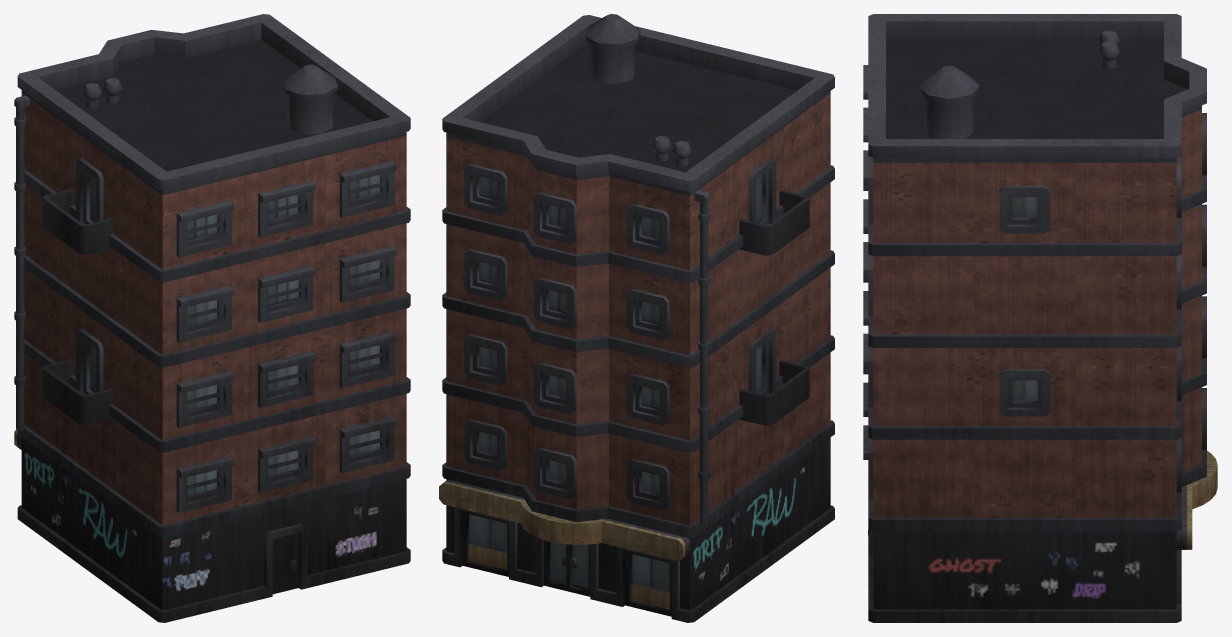
The model's file is building-l-brown-scuffed.glb.
The picture shows the model from 3 angles, left to right: view 1: azimuth 30°, elevation 25°; view 2: azimuth 150°, elevation 25°; view 3: azimuth 270°, elevation 25°; orthographic projection. The views are drawn at different scales.
Parts seen in each view (by area): view 1: building-l; view 2: building-l; view 3: building-l.
Part boxes in pixels (x1,y1,x2,y2): building-l: (14, 14, 410, 622); building-l: (439, 14, 834, 622); building-l: (863, 14, 1217, 622).
Bounding box in the file's own units: 1.37 × 2.27 × 1.4.
1 material, 1 textured.
